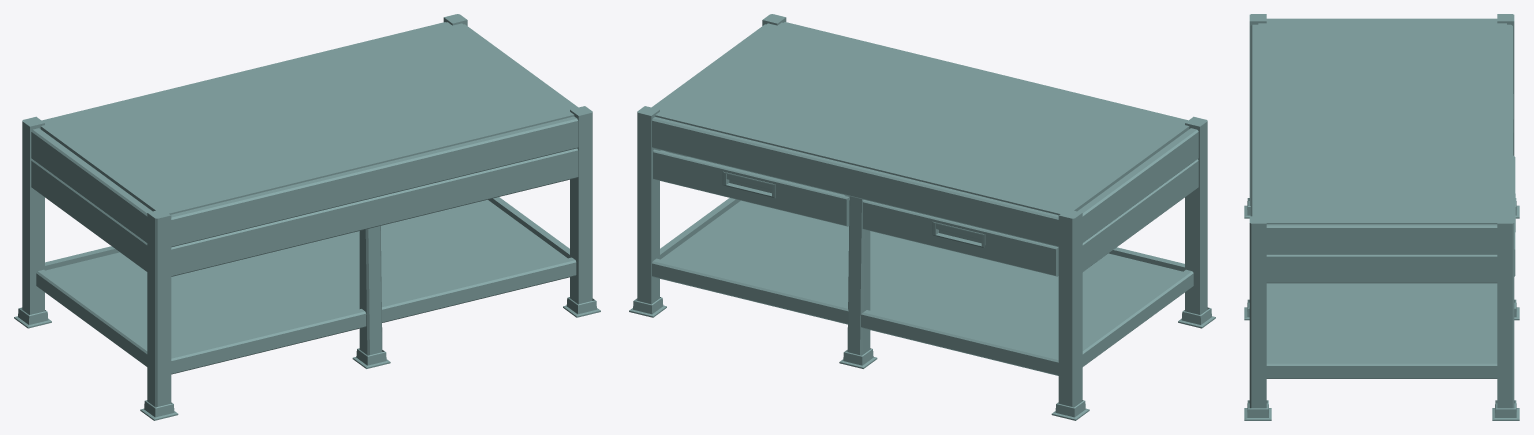
File: Tool_bench_FUR.FBX
3 renders of one model, left to right at view 1: azimuth 30°, elevation 25°; view 2: azimuth 150°, elevation 25°; view 3: azimuth 270°, elevation 25°, orthographic.
Visible parts, largest first — view 1: polySurface177; view 2: polySurface177; view 3: polySurface177.
Part boxes in pixels (<box>): polySurface177: <box>14,14,600,420</box>; polySurface177: <box>629,14,1215,420</box>; polySurface177: <box>1244,14,1519,420</box>.
Size of the model in its own units: 2.11 by 0.8965 by 1.14.
